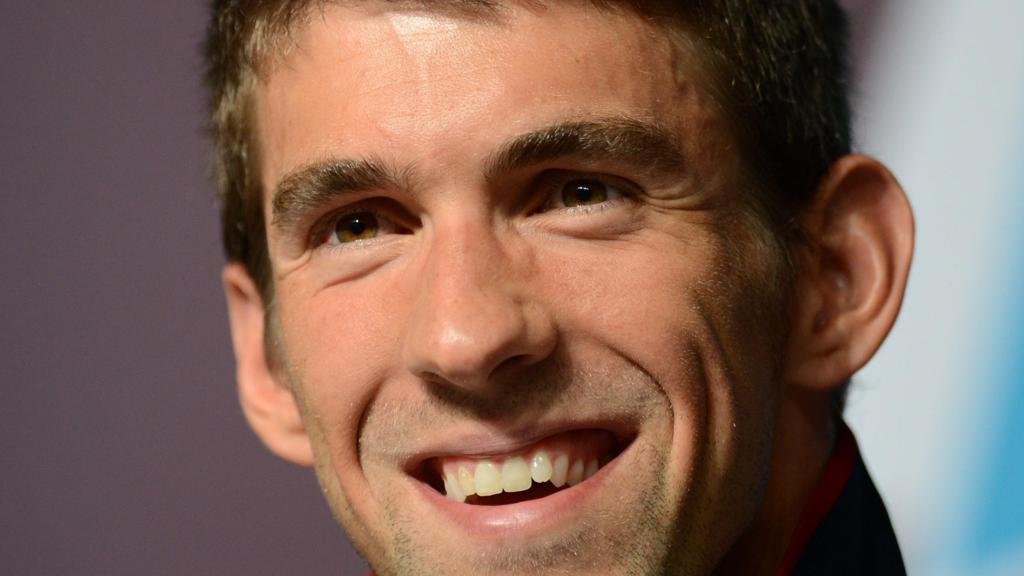face: (264, 20, 784, 574)
